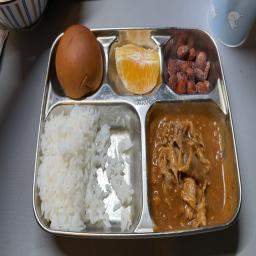100_bread: (48, 21, 106, 100)
100_nuts: (162, 36, 219, 101)
100_orange: (109, 40, 161, 93)
50_rice: (40, 106, 139, 233)
75_beef: (148, 107, 235, 232)
